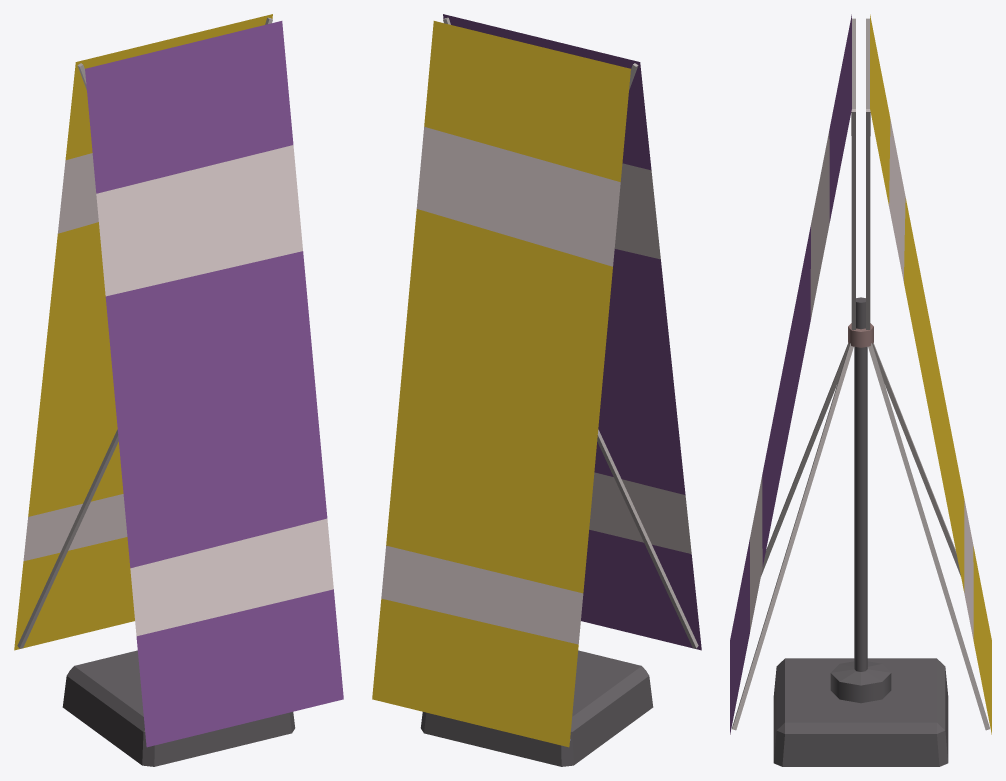
Rendered from Standing_banner02.fbx.
3 views of the same model, side by side, from view 1: azimuth 30°, elevation 25°; view 2: azimuth 150°, elevation 25°; view 3: azimuth 270°, elevation 25° (orthographic).
Parts seen in each view (by area): view 1: Standing_banner_02; view 2: Standing_banner_02; view 3: Standing_banner_02.
Boxes of the visible parts, x1,y1,x2,y2 form: Standing_banner_02: (14, 14, 343, 766); Standing_banner_02: (372, 14, 701, 766); Standing_banner_02: (730, 14, 991, 766).
Size of the model in its own units: 51.56 by 59.96 by 169.
